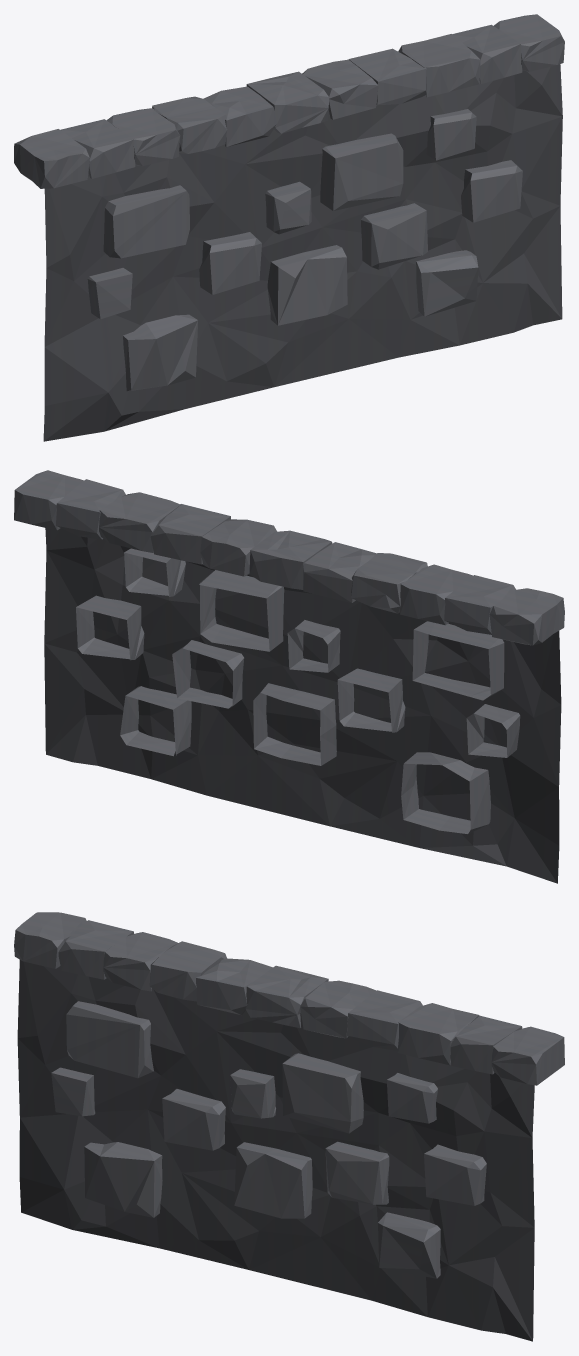
Rendered from Wall_2B.fbx.
3 views of the same model, one above another, from view 1: azimuth 30°, elevation 25°; view 2: azimuth 150°, elevation 25°; view 3: azimuth 330°, elevation 25° (orthographic).
Parts seen in each view (by area): view 1: polySurface10151; view 2: polySurface10151; view 3: polySurface10151.
Boxes of the visible parts, bbox=[...] form: polySurface10151: bbox=[14, 14, 564, 441]; polySurface10151: bbox=[14, 470, 564, 883]; polySurface10151: bbox=[14, 912, 564, 1341].
Bounding box in the file's own units: 813 × 424 × 119.
